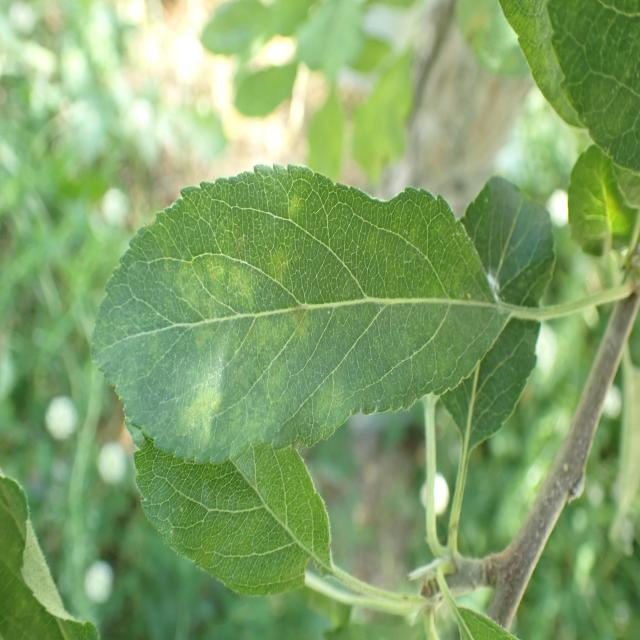scab: (89, 176, 473, 437)
